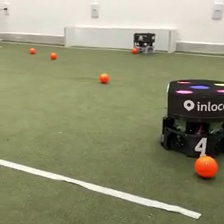ball: (192, 154, 219, 180), (98, 71, 109, 84), (49, 51, 57, 60), (28, 47, 37, 55), (131, 46, 139, 54)
goal: (63, 25, 178, 54)
robot: (158, 77, 224, 161), (131, 30, 157, 55)
